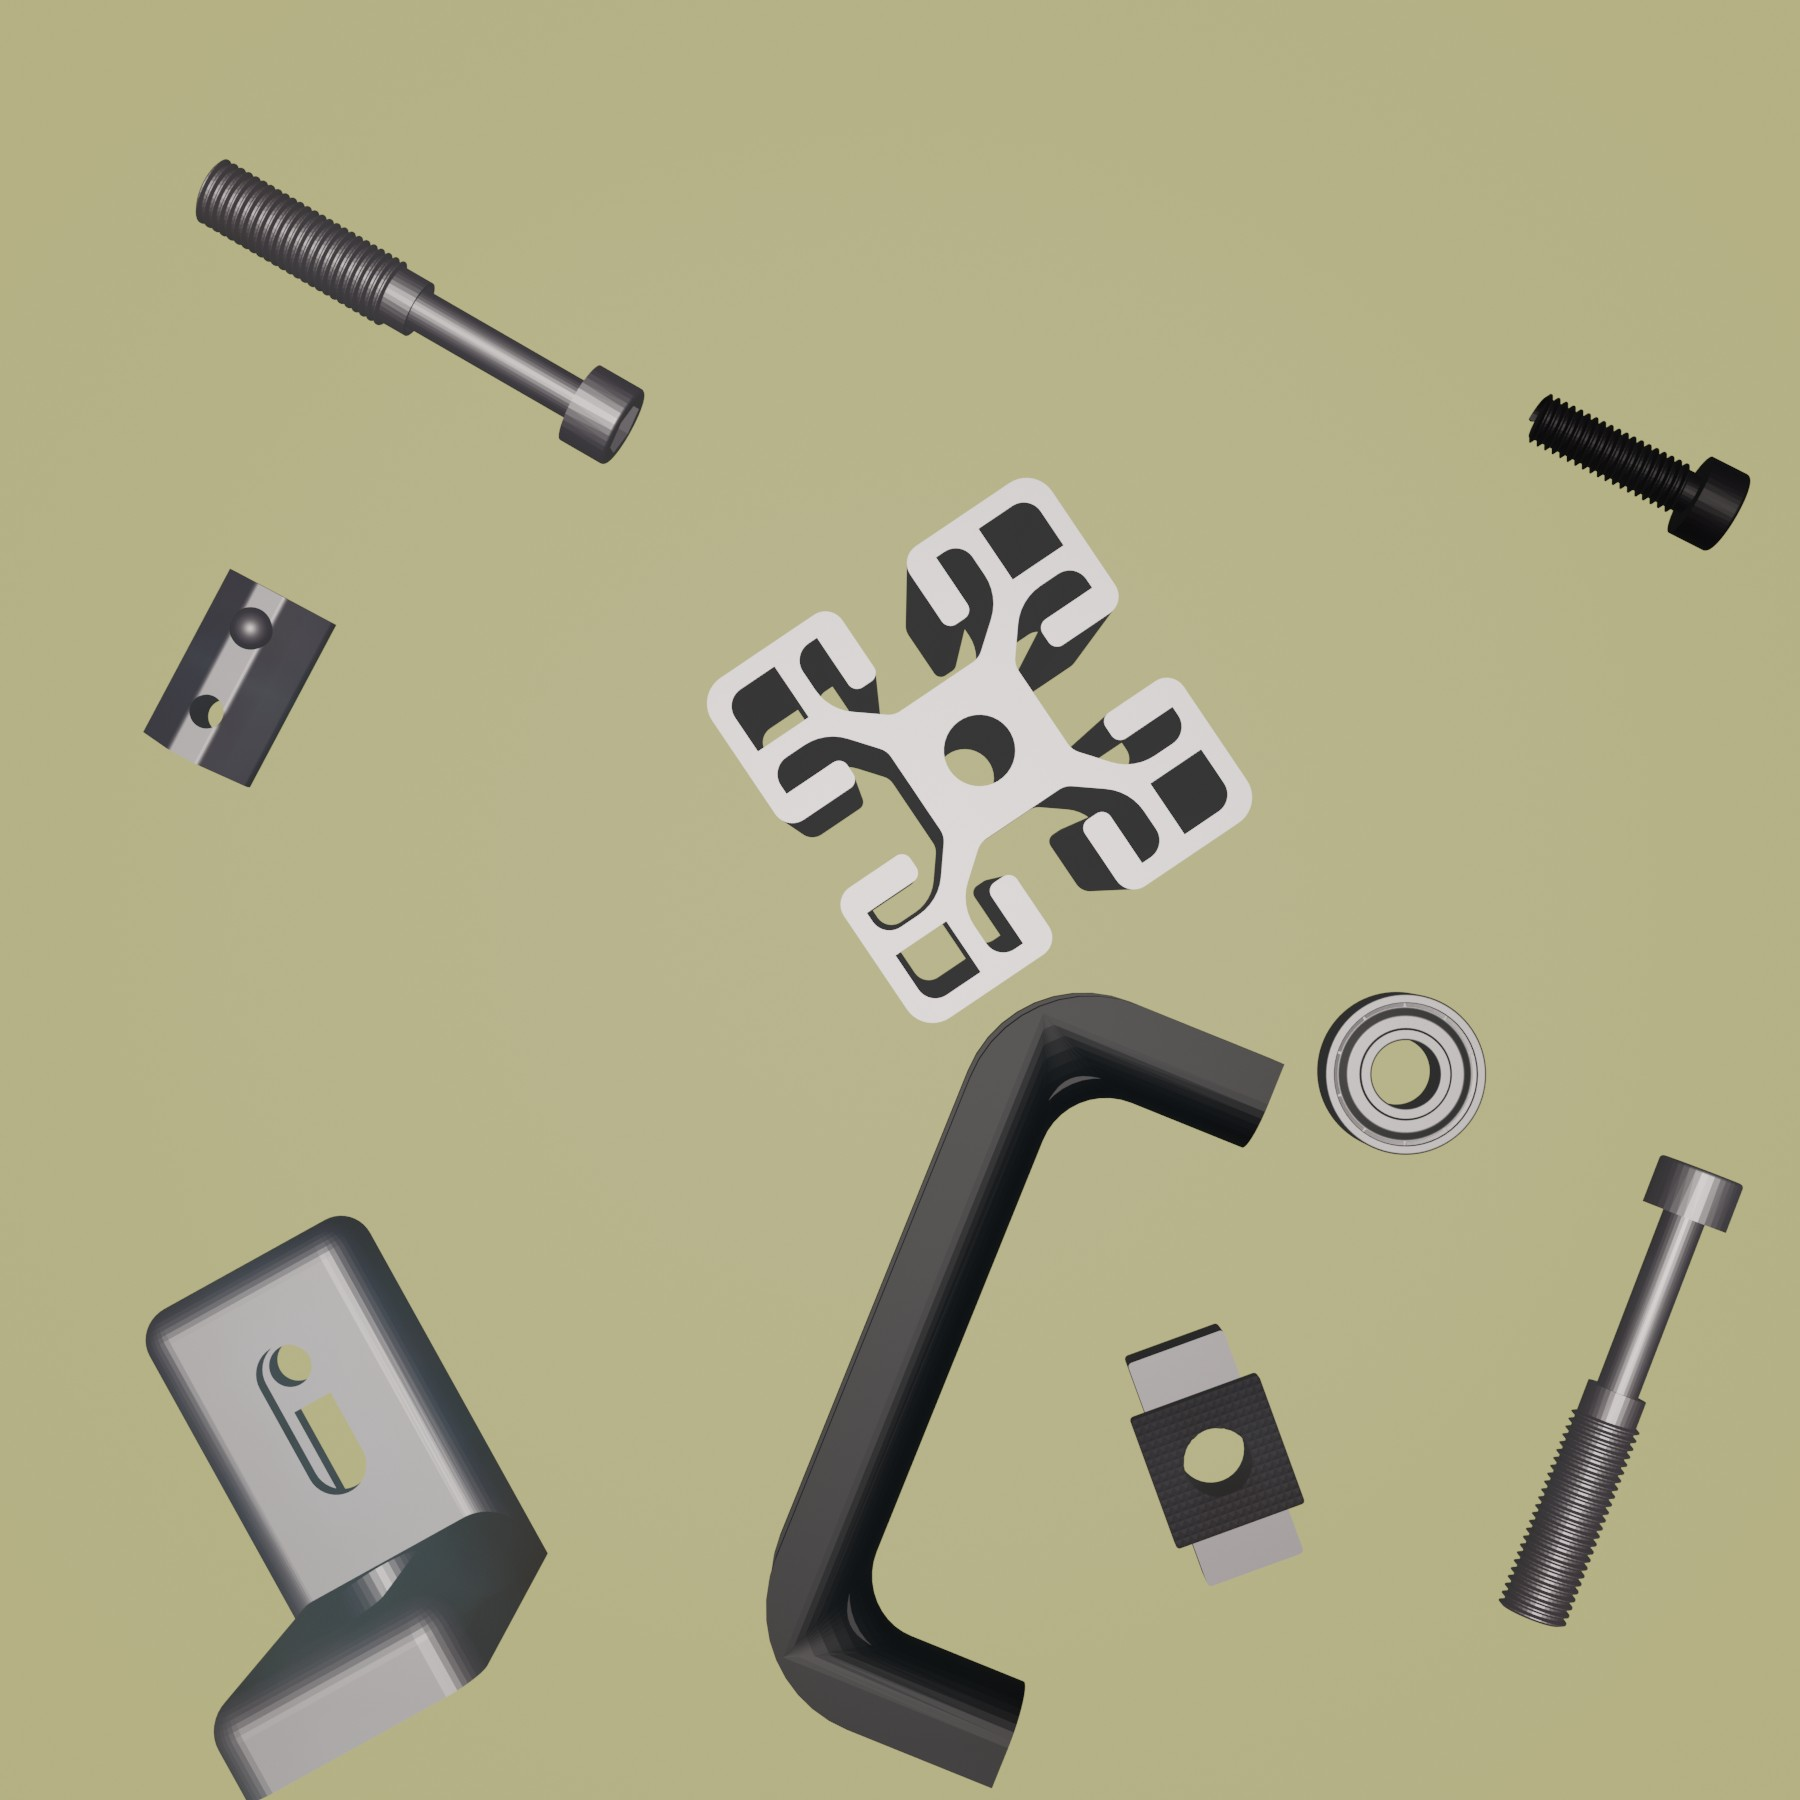Aluminium Extension: (705, 476, 1254, 1027)
Ball Bearing: (1315, 987, 1488, 1157)
Multiwinkel: (147, 1215, 551, 1800)
Pull Handle: (766, 992, 1286, 1792)
Shoulder Socket Head Cap Screw: (190, 157, 646, 465), (1497, 1155, 1744, 1630)
Socket Head Cap Screw: (1523, 389, 1754, 551)
T Nut Square: (1123, 1320, 1309, 1591)
T Spring Nut: (142, 564, 340, 791)
